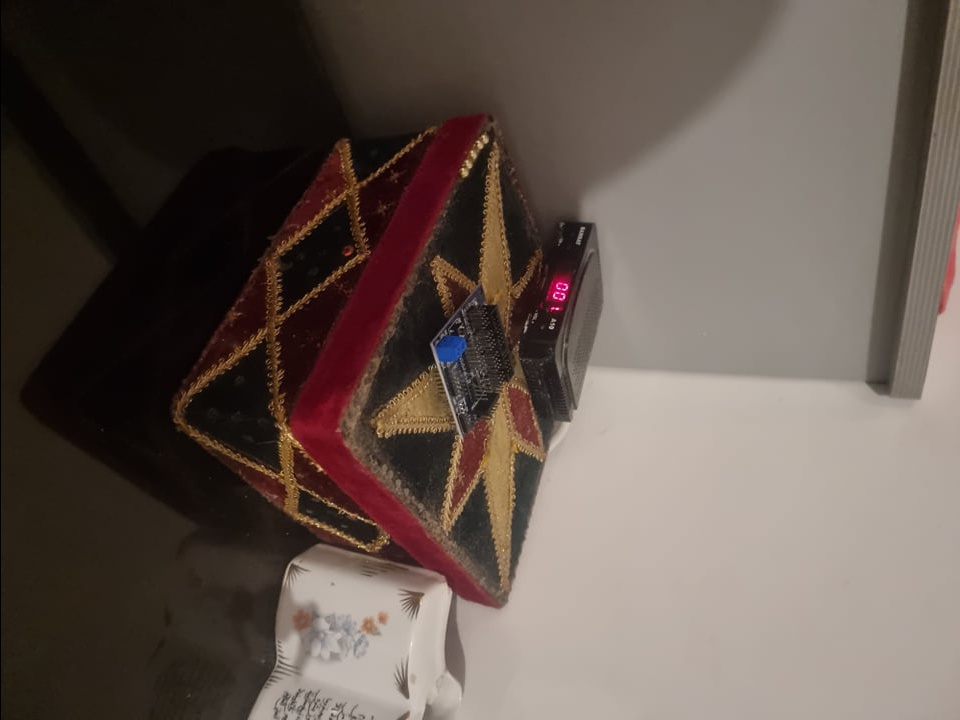5V EXPANSION: (427, 283, 517, 439)
